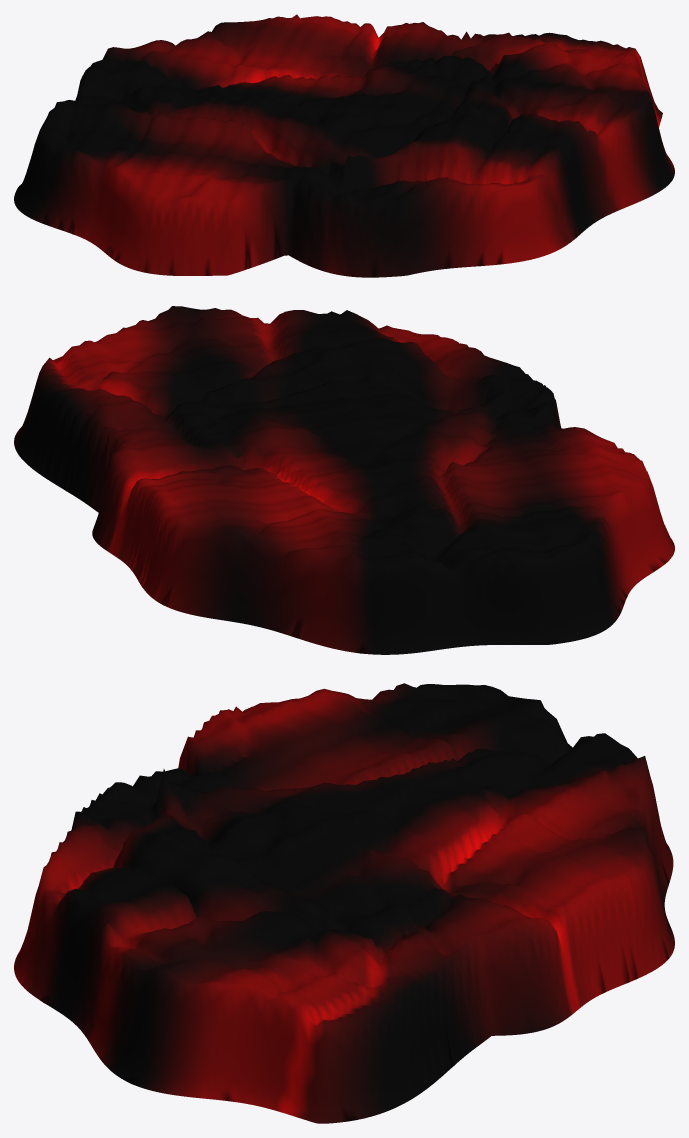
Rendered from SM_BedrockSlab_01.fbx.
3 renders of one model, top to bottom at view 1: azimuth 30°, elevation 25°; view 2: azimuth 150°, elevation 25°; view 3: azimuth 270°, elevation 25°, orthographic. The views are drawn at different scales.
Parts seen in each view (by area): view 1: SM_BedrockSlab_01; view 2: SM_BedrockSlab_01; view 3: SM_BedrockSlab_01.
Part boxes in pixels (<box>): SM_BedrockSlab_01: <box>14,14,674,277</box>; SM_BedrockSlab_01: <box>14,306,674,654</box>; SM_BedrockSlab_01: <box>14,683,674,1123</box>.
Size of the model in its own units: 326 by 247 by 51.86.
